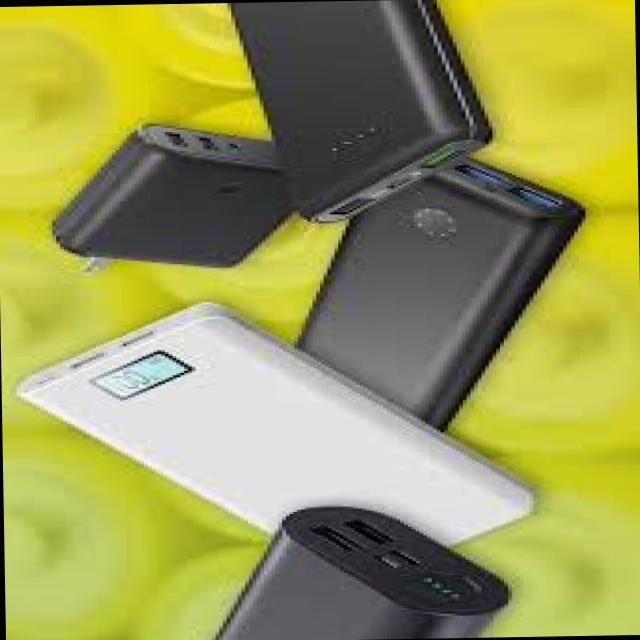power_bank: (18, 290, 541, 568), (278, 149, 586, 442), (219, 0, 498, 231), (198, 500, 520, 640)
